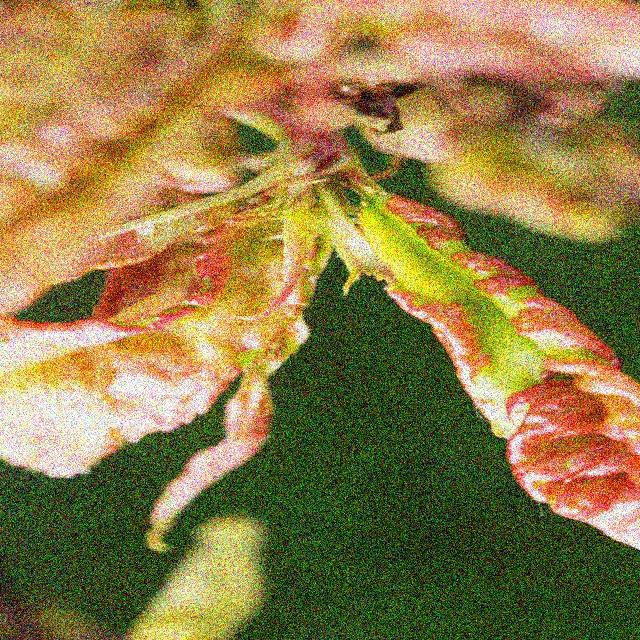leaf_curl: (245, 68, 640, 569)
